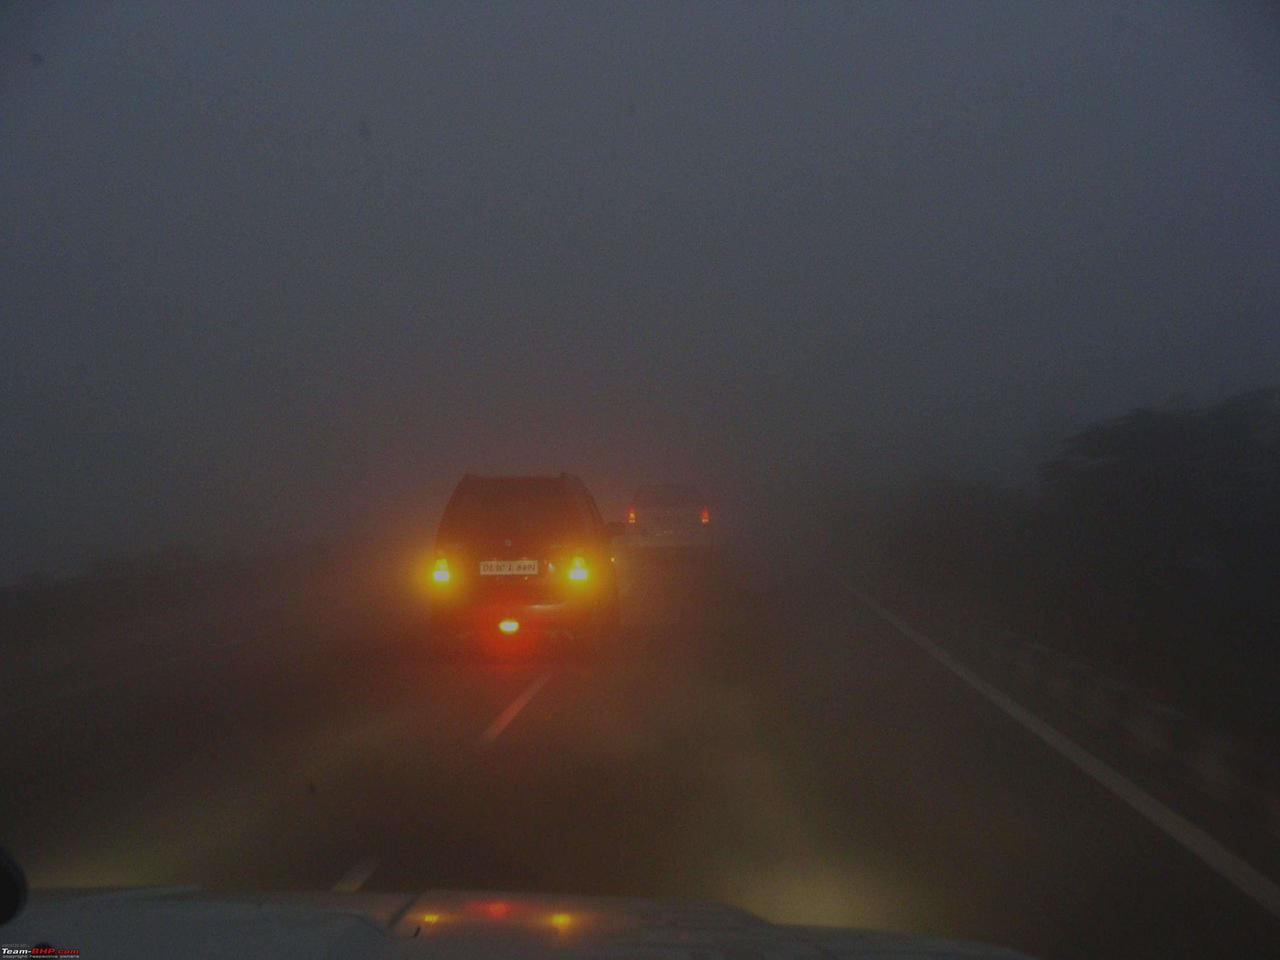car: (426, 466, 627, 653), (623, 479, 710, 565)
